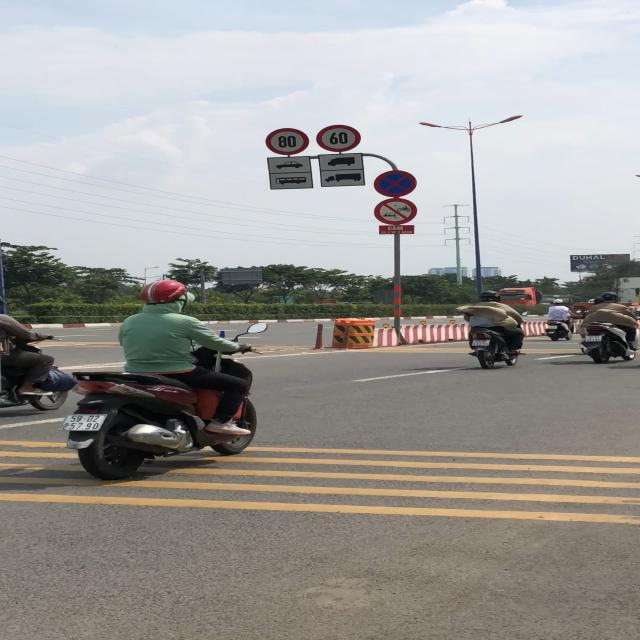Bien bao cam dung xe va do xe: (372, 169, 419, 198)
Bien bao toc do toi da cho phep: (316, 123, 365, 153), (265, 126, 312, 157)
